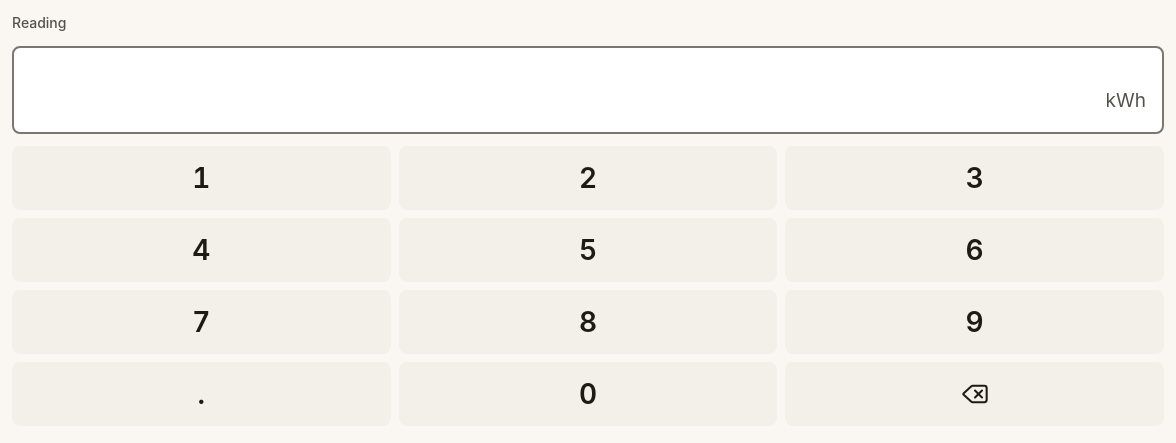
Test: <NumericKeypad> › types with the keys and the hardware keyboard into one labelled field
The width and height of the screenshot is (1176, 443).
Click the button "4": (201, 250) 12,218 -> 391,282
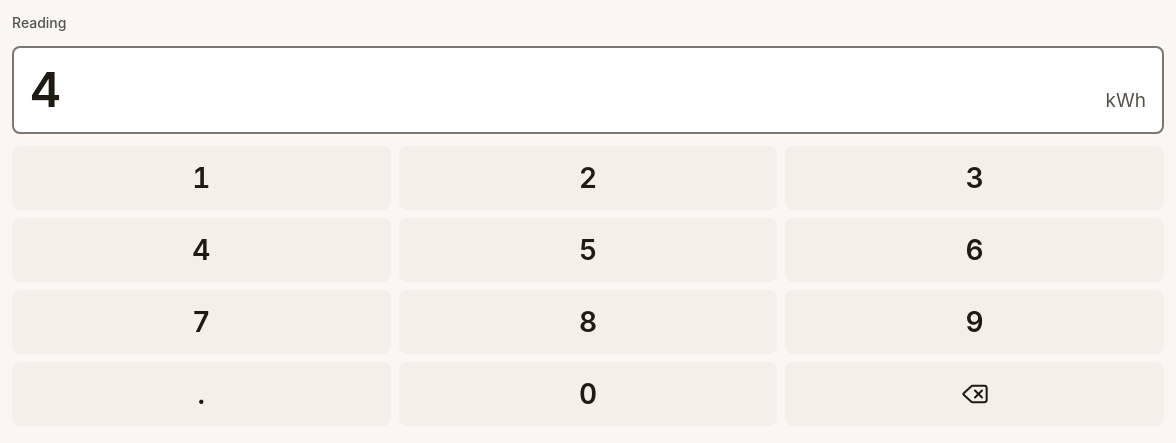
Click the button "2": (588, 178) 399,146 -> 777,210
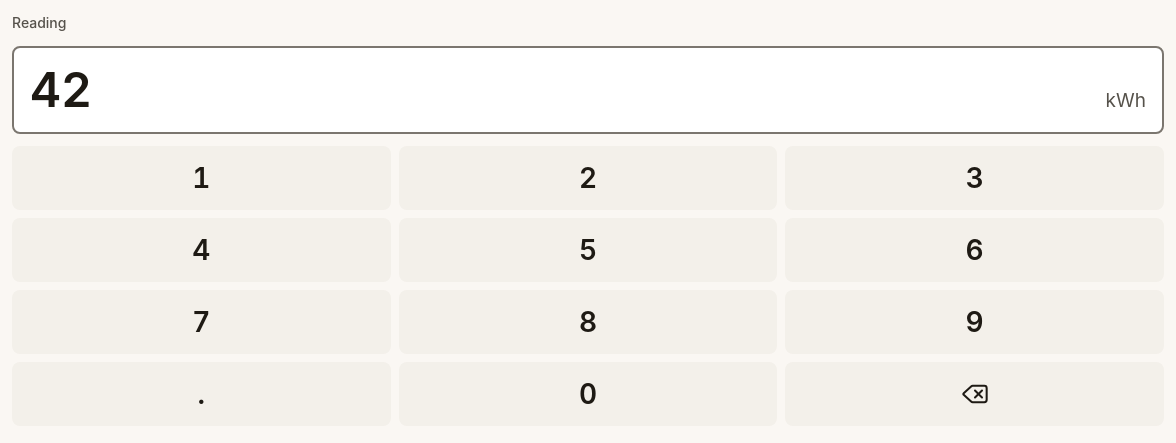
Click the button named "Point": (201, 394) 12,362 -> 391,426
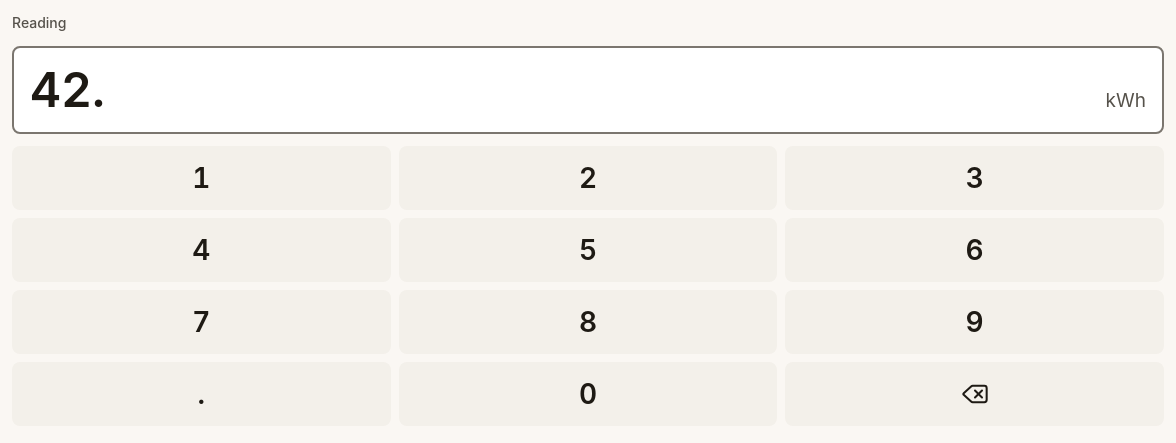
Click the button "5": (588, 250) 399,218 -> 777,282
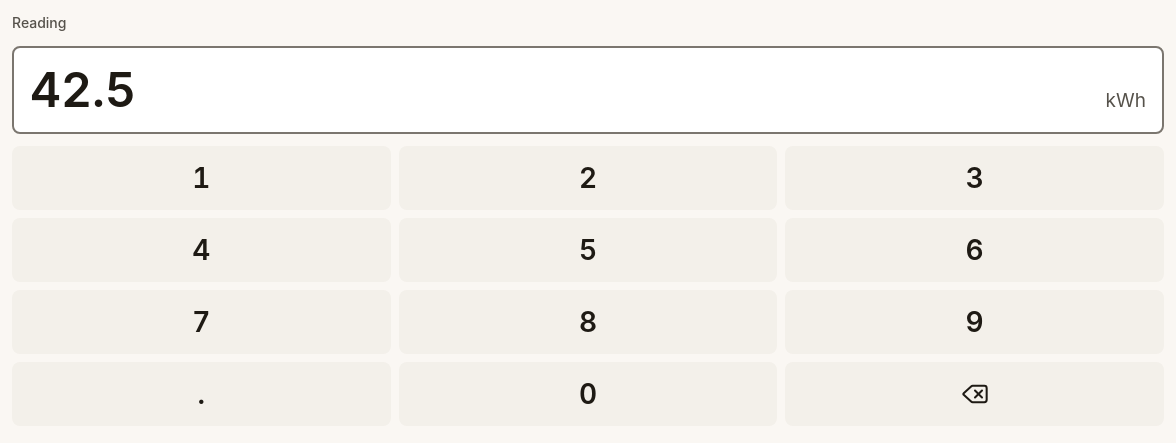
Expected: the field labelled "Reading" holds "42.5", 30,48 -> 1098,132
Click the button named "Delete": (975, 394) 785,362 -> 1164,426
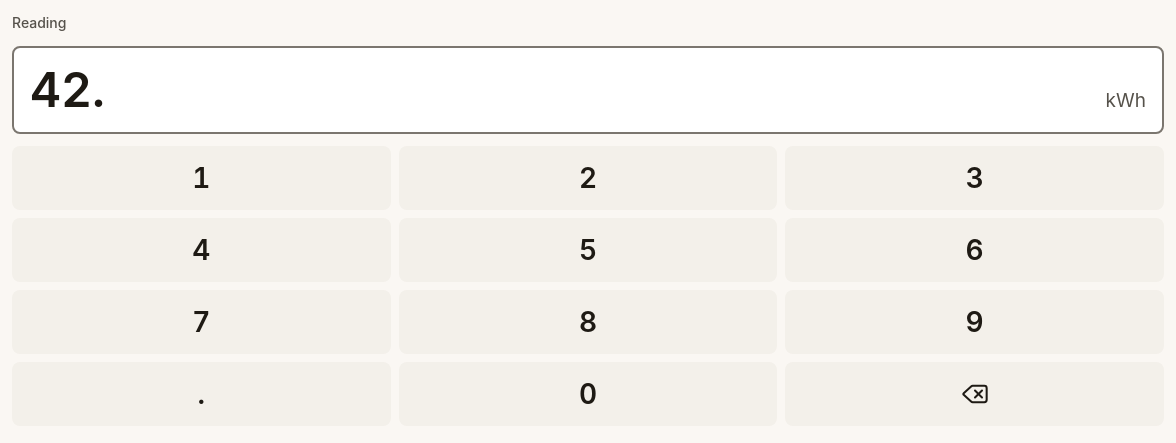
Expected: the field labelled "Reading" holds "42."
Replace the text in the field labelled "Reading" with "0099.12345": (564, 90) 30,48 -> 1098,132
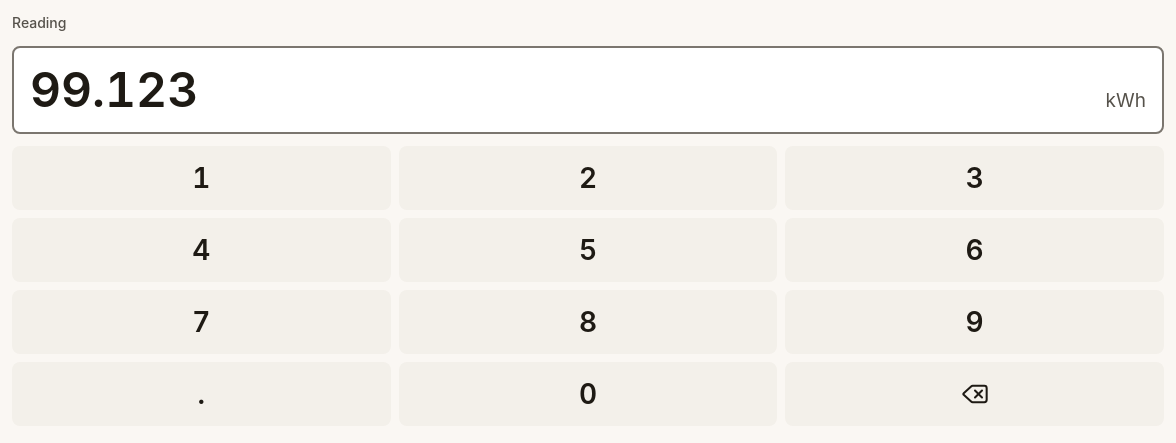
Expected: the field labelled "Reading" holds "99.123", 30,48 -> 1098,132
